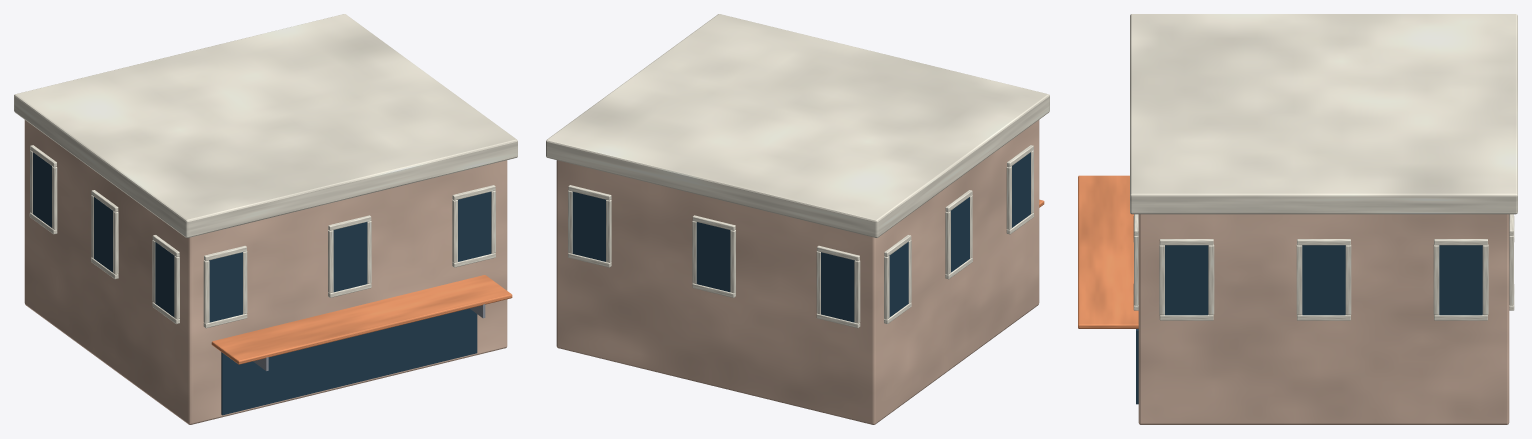
Rendered from bldg_shop_showcase.glb.
3 views of the same model, side by side, from view 1: azimuth 30°, elevation 25°; view 2: azimuth 150°, elevation 25°; view 3: azimuth 270°, elevation 25° (orthographic). The views are drawn at different scales.
Visible parts, largest first — view 1: bldg_shop_showcase_parapet, bldg_shop_showcase_body, bldg_shop_showcase_shopfront, bldg_shop_showcase_awning, bldg_shop_showcase_upper_back_1_glass, bldg_shop_showcase_upper_back_0_glass, bldg_shop_showcase_upper_back_2_glass, bldg_shop_showcase_upper_right_0_glass, bldg_shop_showcase_upper_right_1_glass, bldg_shop_showcase_upper_right_2_glass; view 2: bldg_shop_showcase_body, bldg_shop_showcase_parapet, bldg_shop_showcase_upper_front_1_glass, bldg_shop_showcase_upper_front_0_glass, bldg_shop_showcase_upper_front_2_glass, bldg_shop_showcase_upper_right_2_glass, bldg_shop_showcase_upper_right_1_glass, bldg_shop_showcase_upper_right_0_glass; view 3: bldg_shop_showcase_parapet, bldg_shop_showcase_body, bldg_shop_showcase_awning, bldg_shop_showcase_upper_left_1_glass, bldg_shop_showcase_upper_left_2_glass, bldg_shop_showcase_upper_left_0_glass, bldg_shop_showcase_upper_left_1_trim2, bldg_shop_showcase_upper_left_2_trim3, bldg_shop_showcase_upper_left_0_trim3, bldg_shop_showcase_upper_left_1_trim3, bldg_shop_showcase_upper_left_2_trim2, bldg_shop_showcase_upper_left_0_trim2.
Part boxes in pixels (bbox=[...]): bldg_shop_showcase_parapet: bbox=[14, 14, 517, 237]; bldg_shop_showcase_body: bbox=[24, 120, 507, 424]; bldg_shop_showcase_shopfront: bbox=[221, 308, 477, 415]; bldg_shop_showcase_awning: bbox=[211, 275, 512, 364]; bldg_shop_showcase_upper_back_1_glass: bbox=[333, 222, 367, 292]; bldg_shop_showcase_upper_back_0_glass: bbox=[209, 252, 242, 322]; bldg_shop_showcase_upper_back_2_glass: bbox=[458, 192, 491, 261]; bldg_shop_showcase_upper_right_0_glass: bbox=[155, 242, 174, 317]; bldg_shop_showcase_upper_right_1_glass: bbox=[94, 197, 113, 272]; bldg_shop_showcase_upper_right_2_glass: bbox=[33, 152, 51, 227]; bldg_shop_showcase_body: bbox=[556, 120, 1039, 424]; bldg_shop_showcase_parapet: bbox=[546, 14, 1049, 237]; bldg_shop_showcase_upper_front_1_glass: bbox=[696, 222, 730, 292]; bldg_shop_showcase_upper_front_0_glass: bbox=[821, 252, 854, 322]; bldg_shop_showcase_upper_front_2_glass: bbox=[572, 192, 605, 261]; bldg_shop_showcase_upper_right_2_glass: bbox=[889, 242, 908, 317]; bldg_shop_showcase_upper_right_1_glass: bbox=[950, 197, 969, 272]; bldg_shop_showcase_upper_right_0_glass: bbox=[1012, 152, 1030, 227]; bldg_shop_showcase_parapet: bbox=[1130, 14, 1517, 214]; bldg_shop_showcase_body: bbox=[1138, 214, 1509, 424]; bldg_shop_showcase_awning: bbox=[1078, 175, 1138, 328]; bldg_shop_showcase_upper_left_1_glass: bbox=[1302, 245, 1345, 315]; bldg_shop_showcase_upper_left_2_glass: bbox=[1439, 245, 1482, 315]; bldg_shop_showcase_upper_left_0_glass: bbox=[1165, 245, 1208, 315]; bldg_shop_showcase_upper_left_1_trim2: bbox=[1296, 244, 1302, 315]; bldg_shop_showcase_upper_left_2_trim3: bbox=[1482, 244, 1488, 315]; bldg_shop_showcase_upper_left_0_trim3: bbox=[1208, 244, 1214, 315]; bldg_shop_showcase_upper_left_1_trim3: bbox=[1345, 245, 1351, 315]; bldg_shop_showcase_upper_left_2_trim2: bbox=[1433, 245, 1439, 315]; bldg_shop_showcase_upper_left_0_trim2: bbox=[1159, 244, 1164, 315].
Size of the model in its own units: 10.42 by 6.3 by 10.68.
5 materials, 5 textured.
